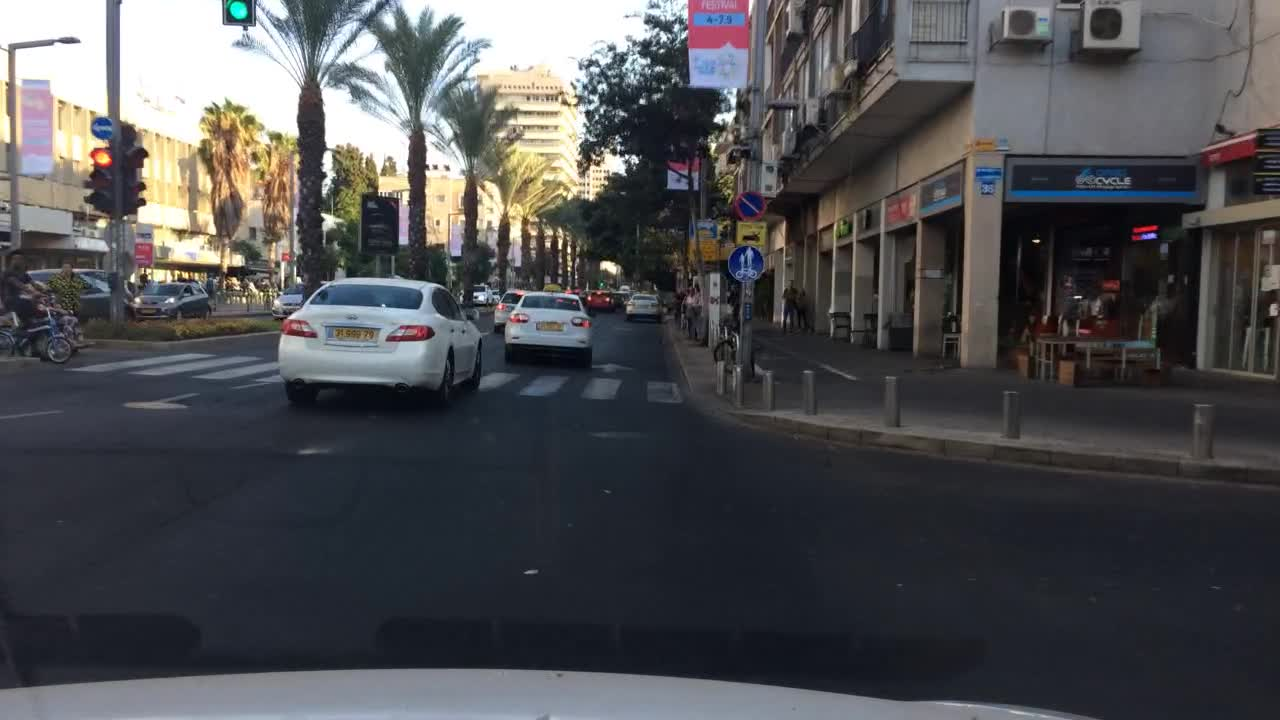bike: (0, 283, 85, 362), (712, 321, 758, 381)
car: (275, 273, 484, 409), (503, 281, 594, 369), (22, 265, 134, 318), (129, 278, 211, 319), (269, 279, 330, 320), (490, 288, 526, 333), (625, 293, 664, 323), (456, 283, 495, 306), (585, 290, 617, 312), (565, 286, 586, 307), (607, 288, 627, 306), (489, 290, 503, 304), (617, 283, 630, 293)
person: (779, 277, 799, 332), (791, 282, 810, 330), (686, 285, 702, 340), (679, 285, 695, 335), (203, 270, 221, 312), (670, 287, 686, 322), (726, 280, 741, 316), (224, 273, 241, 291), (135, 272, 153, 288)
rider: (2, 247, 57, 354)
traffic light: (114, 144, 148, 215), (86, 146, 112, 217), (220, 1, 259, 25)
traffic sign: (687, 0, 748, 90), (725, 244, 764, 283), (687, 234, 738, 260), (664, 157, 700, 192), (732, 187, 766, 220), (131, 220, 155, 265), (733, 220, 766, 246), (687, 215, 717, 241), (90, 113, 114, 139)
